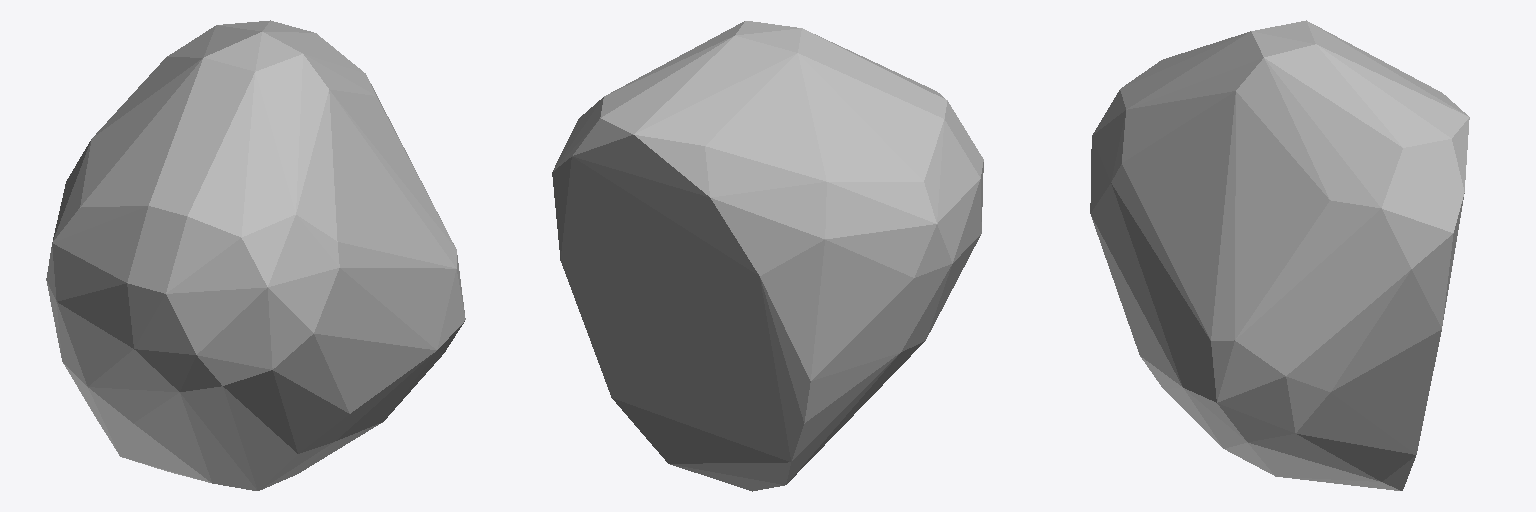
URDF robot description (grasp):
<?xml version="1.0" ?>
<robot name="grasp">
	
  
	<link name="virtual_base">
		
    
		<inertial>
			
      
			<mass value="1e-10"/>
			
      
			<inertia ixx="1e-10" ixy="0" ixz="0" iyy="1e-10" iyz="0" izz="1e-10"/>
			
    
		</inertial>
		
  
	</link>
	

  
	<link name="link_climbing_hold_vhacd_convex_0">
		<inertial>
			<origin rpy="-3.1363 0.0109355 2.02168" xyz="0.0349573 -0.0137936 -0.0219599"/>
			<mass value="2.81E-04"/>
			<inertia ixx="2.68E-07" ixy="-7.36E-10" ixz="-1.09E-09" iyy="2.19E-07" iyz="-6.41E-09" izz="2.07E-07"/>
		</inertial>
		<visual>
			<origin rpy="-3.1363 0.0109355 2.02168" xyz="0.0349573 -0.0137936 -0.0219599"/>
			<geometry>
				<mesh filename="../example/mini_dexnet/urdf/climbing_hold/climbing_hold_vhacd_convex_0.obj"/>
			</geometry>
			<material name="">
				<color rgba="0.75 0.75 0.75 1"/>
			</material>
		</visual>
		<collision>
			<origin rpy="-3.1363 0.0109355 2.02168" xyz="0.0349573 -0.0137936 -0.0219599"/>
			<geometry>
				<mesh filename="../example/mini_dexnet/urdf/climbing_hold/climbing_hold_vhacd_convex_0.obj"/>
			</geometry>
		</collision>
	</link>
	<joint name="world_joint" type="fixed">
		
    
		<origin rpy="0 1.57079632679 0" xyz="0 0 -0.03"/>
		
    
		<parent link="virtual_base"/>
		
    
		<child link="right_gripper_base"/>
		
  
	</joint>
	

  
  
	<link name="right_gripper_base">
		
    
		<visual>
			
      
			<origin rpy="-1.57079632679 3.14159265359 0" xyz="0 0 0"/>
			
      
			<geometry>
				
        
				<mesh filename="../../rethink_ee_description/meshes/electric_gripper/electric_gripper_base.STL"/>
				
      
			</geometry>
			
      
			<material name="darkred_red">
				
        
				<color rgba=".5 0 0 1"/>
				
      
			</material>
			
    
		</visual>
		
    
		<collision>
			
      
			<origin rpy="-1.57079632679 3.14159265359 0" xyz="0.0 0.0 0"/>
			
      
			<geometry>
				
        
				<mesh filename="../../rethink_ee_description/meshes/electric_gripper/electric_gripper_base.STL"/>
				
      
			</geometry>
			
    
		</collision>
		
    
		<inertial>
			
      
			<origin rpy="-1.57079632679 3.14159265359 0" xyz="0.0 0.0 0.0"/>
			
      
			<mass value="0.3"/>
			
      
			<inertia ixx="2e-08" ixy="0" ixz="0" iyy="3e-08" iyz="0" izz="2e-08"/>
			
    
		</inertial>
		
  
	</link>
	
  
	<link name="r_gripper_l_finger">
		
    
		<visual>
			
      
			<origin rpy="0 0 -3.14159265359" xyz="0 0 0"/>
			
      
			<geometry>
				
        
				<mesh filename="../../rethink_ee_description/meshes/electric_gripper/fingers/standard_narrow.STL"/>
				
      
			</geometry>
			
      
			<material name="darkred_grey">
				
        
				<color rgba=".2 .2 .2 1"/>
				
      
			</material>
			
    
		</visual>
		
    
		<collision>
			
      
			<origin rpy="0 0 -3.14159265359" xyz="0 0 0"/>
			
      
			<geometry>
				
        
				<mesh filename="../../rethink_ee_description/meshes/electric_gripper/fingers/standard_narrow.STL"/>
				
      
			</geometry>
			
    
		</collision>
		
    
		<inertial>
			
      
			<origin rpy="0 0 -3.14159265359" xyz="0 0 0"/>
			
      
			<mass value="0.02"/>
			
      
			<inertia ixx="0.01" ixy="0" ixz="0" iyy="0.01" iyz="0" izz="0.01"/>
			
    
		</inertial>
		
  
	</link>
	
  
	<gazebo reference="r_gripper_l_finger">
		
    
		<mu1>1000</mu1>
		
    
		<mu2>1000</mu2>
		
    
		<fdir1>0.0 0.0 1.0</fdir1>
		
    
		<kp>1e5</kp>
		
    
		<kd>1.0</kd>
		
  
	</gazebo>
	
  
  
	<link name="r_gripper_r_finger">
		
    
		<visual>
			
      
			<origin rpy="0 0 -0.0" xyz="0 0 0"/>
			
      
			<geometry>
				
        
				<mesh filename="../../rethink_ee_description/meshes/electric_gripper/fingers/standard_narrow.STL"/>
				
      
			</geometry>
			
      
			<material name="darkred_grey">
				
        
				<color rgba=".2 .2 .2 1"/>
				
      
			</material>
			
    
		</visual>
		
    
		<collision>
			
      
			<origin rpy="0 0 -0.0" xyz="0 0 0"/>
			
      
			<geometry>
				
        
				<mesh filename="../../rethink_ee_description/meshes/electric_gripper/fingers/standard_narrow.STL"/>
				
      
			</geometry>
			
    
		</collision>
		
    
		<inertial>
			
      
			<origin rpy="0 0 -0.0" xyz="0 0 0"/>
			
      
			<mass value="0.02"/>
			
      
			<inertia ixx="0.01" ixy="0" ixz="0" iyy="0.01" iyz="0" izz="0.01"/>
			
    
		</inertial>
		
  
	</link>
	
  
	<gazebo reference="r_gripper_r_finger">
		
    
		<mu1>1000</mu1>
		
    
		<mu2>1000</mu2>
		
    
		<fdir1>0.0 0.0 1.0</fdir1>
		
    
		<kp>1e5</kp>
		
    
		<kd>1.0</kd>
		
  
	</gazebo>
	
  
  
 
  
  
	<joint name="right_endpoint" type="fixed">
		
    
		<origin rpy="0 0 0" xyz="0 0 0.1327"/>
		
    
		<parent link="right_gripper_base"/>
		
    
		<child link="right_gripper"/>
		
  
	</joint>
	
  
  
	<link name="right_gripper">
		
    
		<inertial>
			
      
			<origin rpy="0 0 0" xyz="0 0 0"/>
			
      
			<mass value="0.0001"/>
			
      
			<inertia ixx="0" ixy="0" ixz="0" iyy="0" iyz="0" izz="0.0"/>
			
    
		</inertial>
		
  
	</link>
	
  
	<joint name="r_gripper_l_finger_joint" type="prismatic">
		
    
		<origin rpy="0 0 0" xyz="0.0 -0.0015 0.02"/>
		
    
		<axis xyz="0 1 0"/>
		
    
		<parent link="right_gripper_base"/>
		
    
		<child link="r_gripper_l_finger"/>
		
    
		<limit effort="20.0" lower="0.0" upper="0.020833" velocity="5.0"/>
		
    
		<dynamics damping="0.7" friction="0.0"/>
		
  
	</joint>
	
  
	<joint name="r_gripper_r_finger_joint" type="prismatic">
		
    
		<origin rpy="0 0 0" xyz="0.0 0.0015 0.02"/>
		
    
		<axis xyz="0 1 0"/>
		
    
		<parent link="right_gripper_base"/>
		
    
		<child link="r_gripper_r_finger"/>
		
    
		<limit effort="20.0" lower="-0.020833" upper="0.0" velocity="5.0"/>
		
    
		<mimic joint="r_gripper_l_finger_joint" multiplier="-1.0"/>
		
    
		<dynamics damping="0.7" friction="0.0"/>
		
  
	</joint>
	
  
	<transmission name="gripper_right1">
		
    
		<type>transmission_interface/SimpleTransmission</type>
		
    
		<joint name="r_gripper_r_finger_joint">
			
      
			<hardwareInterface>EffortJointInterface</hardwareInterface>
			
    
		</joint>
		
    
		<actuator name="gripper_r1_motor1">
			
      
			<hardwareInterface>EffortJointInterface</hardwareInterface>
			
      
			<mechanicalReduction>1</mechanicalReduction>
			
    
		</actuator>
		
  
	</transmission>
	
  
	<transmission name="gripper_right2">
		
    
		<type>transmission_interface/SimpleTransmission</type>
		
    
		<joint name="r_gripper_l_finger_joint">
			
      
			<hardwareInterface>EffortJointInterface</hardwareInterface>
			
    
		</joint>
		
    
		<actuator name="gripper_r1_motor2">
			
      
			<hardwareInterface>EffortJointInterface</hardwareInterface>
			
      
			<mechanicalReduction>1</mechanicalReduction>
			
    
		</actuator>
		
  
	</transmission>
	
  
	<gazebo reference="r_gripper_r_finger_joint">
		
    
		<implicitSpringDamper>1</implicitSpringDamper>
		
  
	</gazebo>
	
  
	<gazebo reference="r_gripper_l_finger_joint">
		
    
		<implicitSpringDamper>1</implicitSpringDamper>
		
  
	</gazebo>
	

	<joint name="grasp_joint" type="fixed">
		<origin rpy="0 0 0" xyz="0 0 0"/>
		<parent link="virtual_base"/>
		<child link="link_climbing_hold_vhacd_convex_0"/>
	</joint>
</robot>

--- What the picture shows (computed from the rendered views, not written in the file) ---
Views: 3 orthographic renders of the robot side by side, from view 1: azimuth 30°, elevation 25°; view 2: azimuth 150°, elevation 25°; view 3: azimuth 270°, elevation 25°.
Robot: grasp — 6 links, 5 joints (2 prismatic, 3 fixed); root link virtual_base; default pose: every joint at zero.
Links seen in each view (by area): view 1: link_climbing_hold_vhacd_convex_0; view 2: link_climbing_hold_vhacd_convex_0; view 3: link_climbing_hold_vhacd_convex_0.
Boxes of the visible links, left/top/right/bottom form: link_climbing_hold_vhacd_convex_0: left=46, top=20, right=465, bottom=490; link_climbing_hold_vhacd_convex_0: left=552, top=21, right=983, bottom=491; link_climbing_hold_vhacd_convex_0: left=1090, top=20, right=1469, bottom=490.
Size in the robot's own frame: 0.0942 by 0.0805 by 0.1047 metres.
Meshes: 3 distinct files referenced, 1 mesh visuals loaded (1 OBJ); not drawn: 3 (reference not matched to a file when rendering).